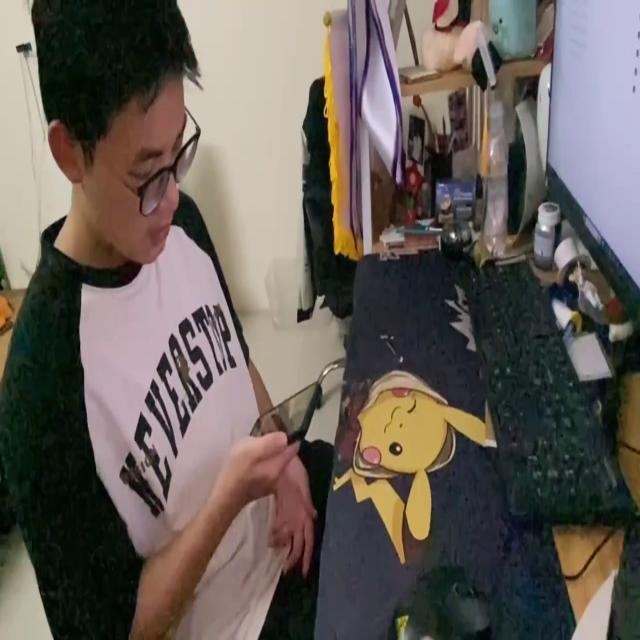laptop: (545, 0, 640, 330)
phone: (243, 376, 322, 445)
student: (6, 0, 328, 635)
